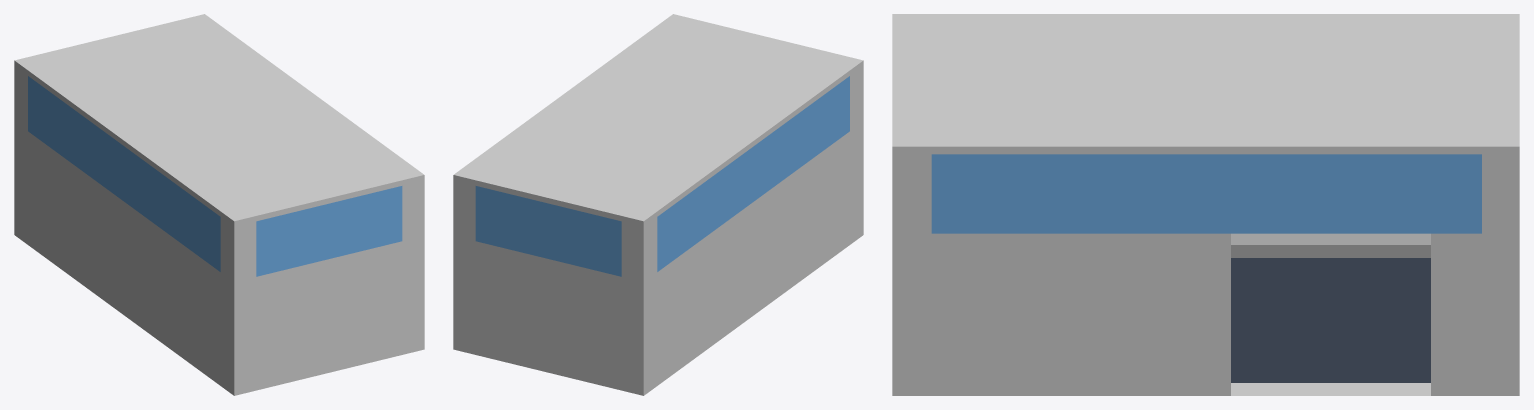
File: building_1x2_6_g.glb
The picture shows the model from 3 angles, left to right: view 1: azimuth 30°, elevation 25°; view 2: azimuth 150°, elevation 25°; view 3: azimuth 270°, elevation 25°; orthographic projection. The views are drawn at different scales.
Visible parts, largest first — view 1: Cube; view 2: Cube; view 3: Cube.
Part boxes in pixels (x1,y1,x2,y2): Cube: (14, 14, 424, 395); Cube: (453, 14, 863, 395); Cube: (892, 14, 1519, 395).
Bounding box in the file's own units: 1.98 × 1.6 × 3.65.
